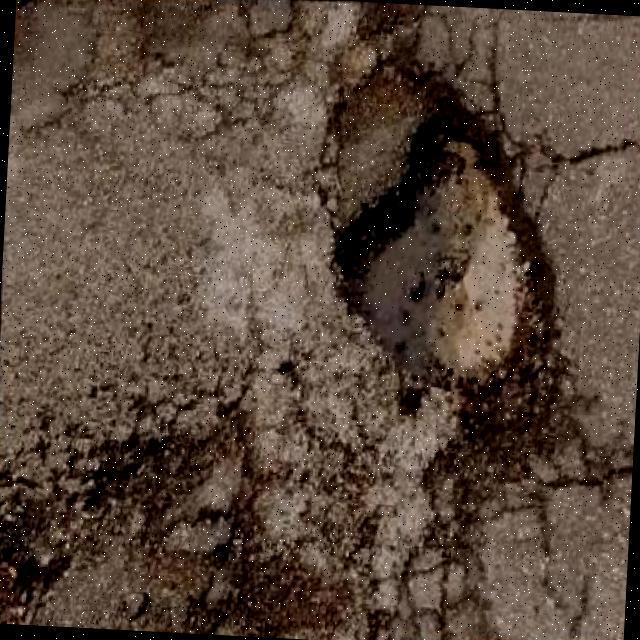Pothole: (316, 56, 570, 515), (0, 397, 352, 639)
